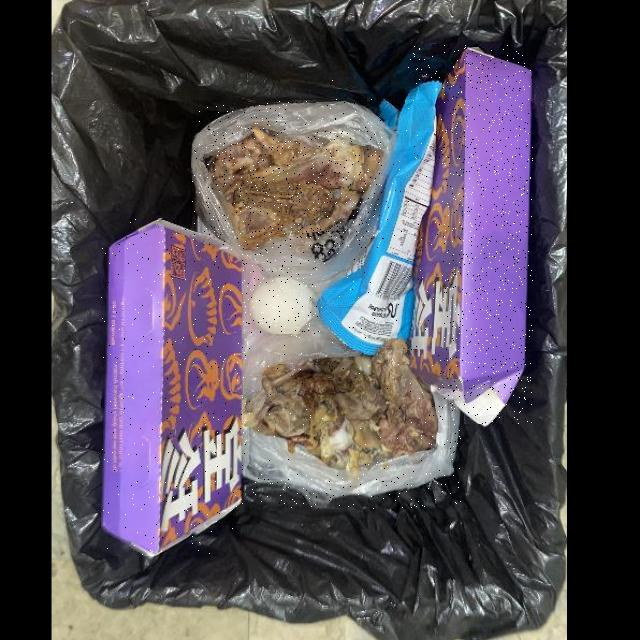biowaste: (246, 338, 438, 473), (209, 126, 383, 247), (249, 276, 317, 335)
paper: (102, 219, 242, 555), (409, 45, 533, 423)
plastic: (192, 101, 461, 509)
wrapper: (317, 79, 442, 356)
